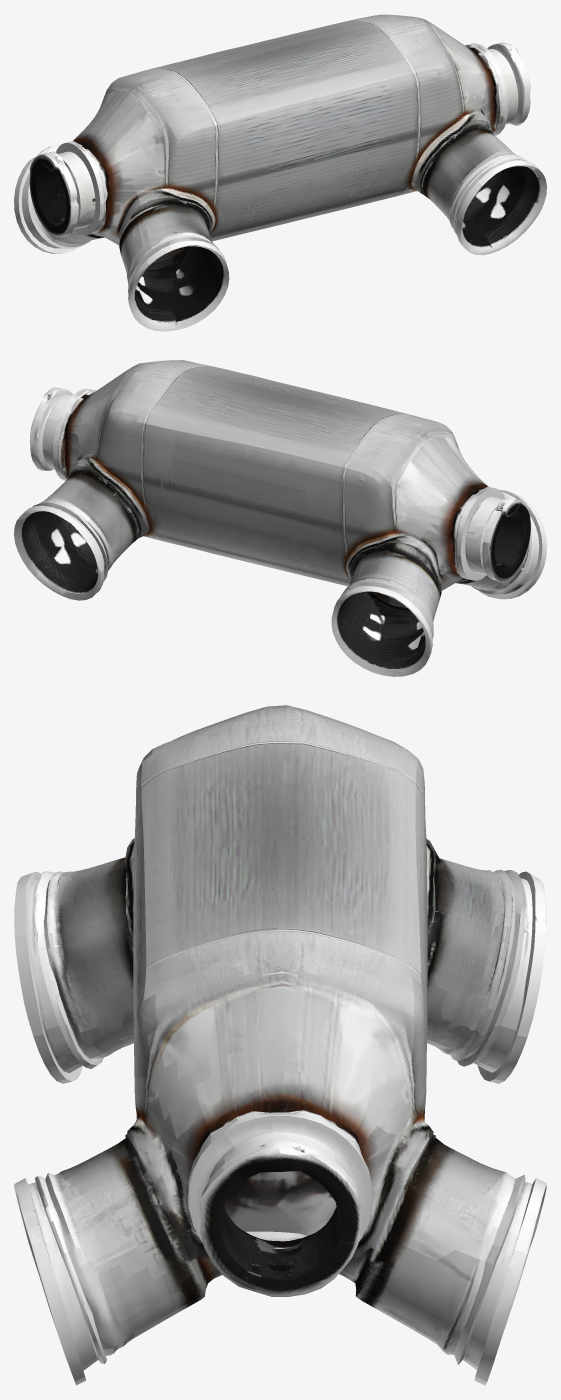
The model's file is catalytic-converter.glb.
3 renders of one model, top to bottom at view 1: azimuth 30°, elevation 25°; view 2: azimuth 150°, elevation 25°; view 3: azimuth 270°, elevation 25°, orthographic. The views are drawn at different scales.
Bounding box in the file's own units: 1.9 × 0.7829 × 0.9718.
Materials: 1 (1 with a texture image).
